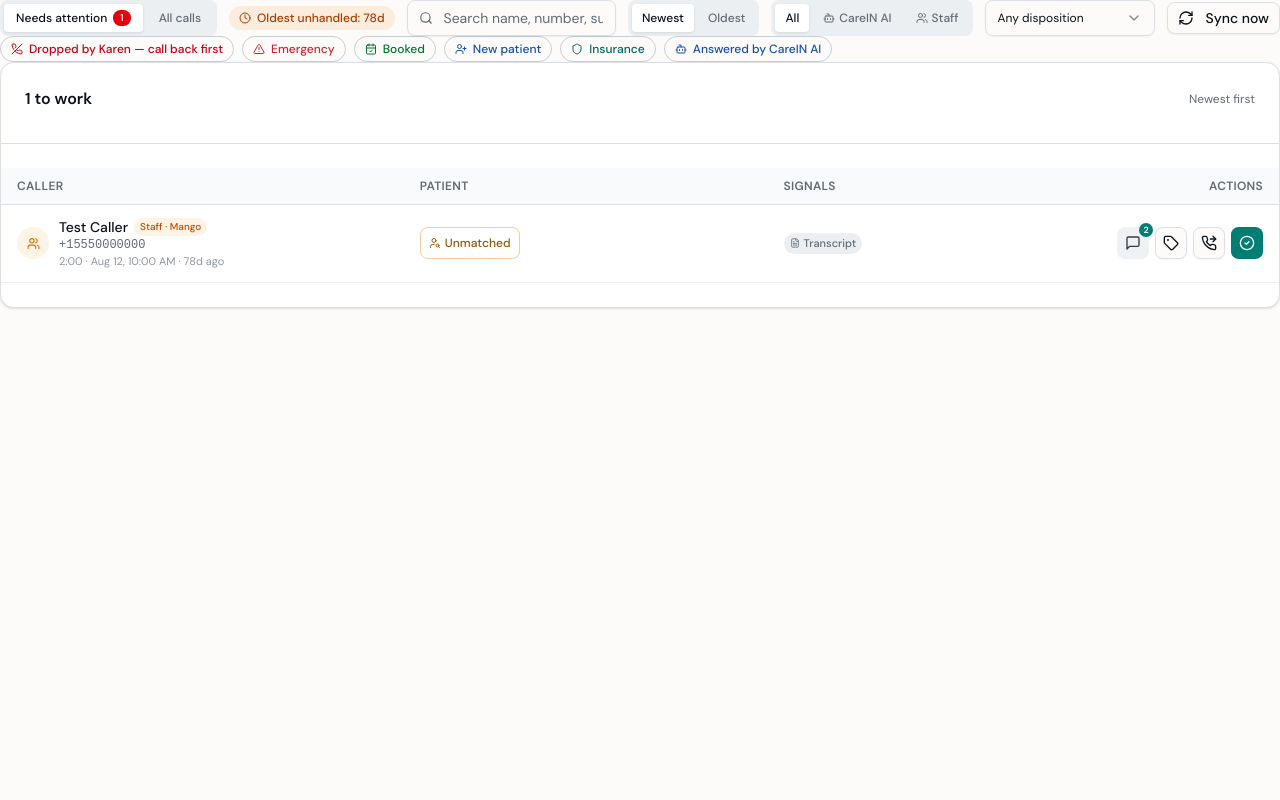
Test: notes on a call › counts them on the row and opens the panel in place
Click the button with test id "notes-action" at coordinates (1133, 243), box 1117,227 -> 1149,259
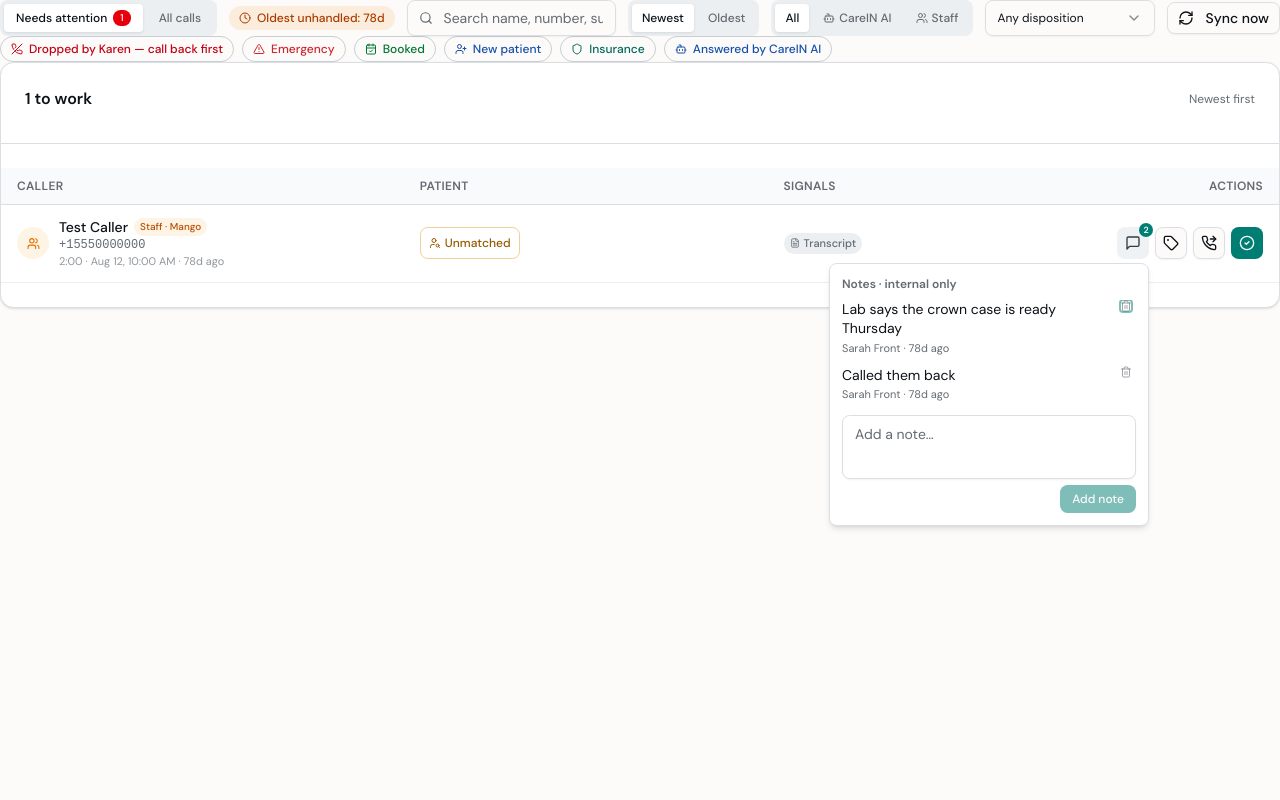
Check: the text "Lab says the crown case is ready Thursday" is shown, box 842,300 -> 1060,337
Check: the text "Called them back" is shown, box 842,366 -> 956,386
